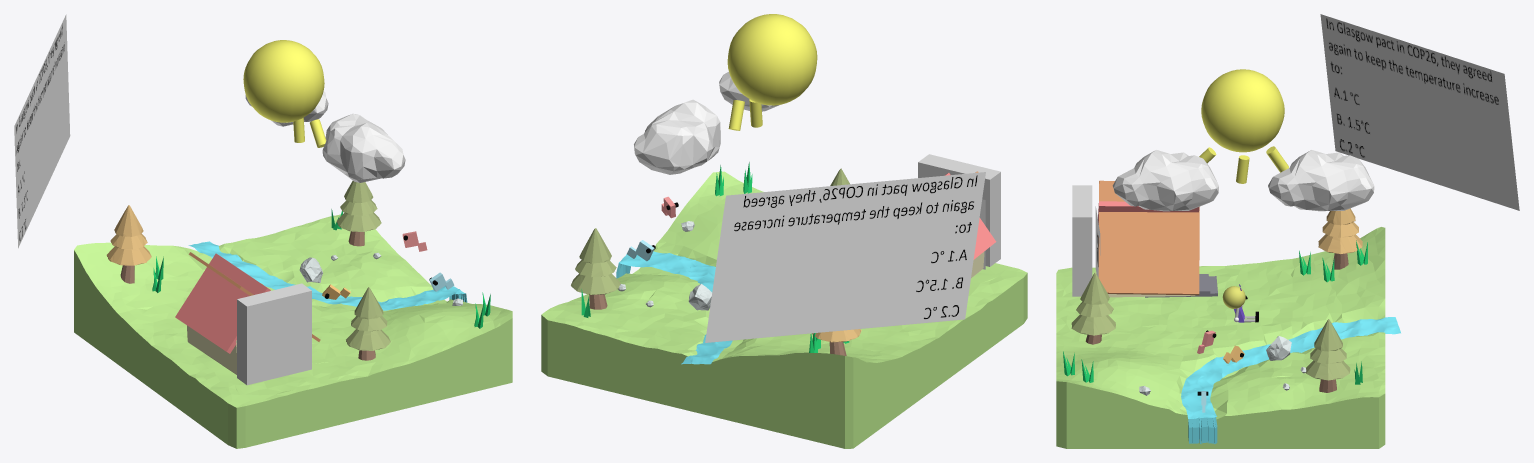
The model's file is sunnyQ5.glb.
3 views of the same model, side by side, from view 1: azimuth 30°, elevation 25°; view 2: azimuth 150°, elevation 25°; view 3: azimuth 270°, elevation 25° (orthographic). The views are drawn at different scales.
Visible parts, largest first — view 1: terrain, pPlane2, Cube, pSphere1, house:pCube6, pPlatonic1, water, house:pCube4, pCylinder1, trees:pCylinder8, trees:pCylinder1, pCylinder4 (+1 smaller); view 2: terrain, pPlane2, pSphere1, clouds:pPlatonic1, Cube, water, trees:pCylinder1, trees:pCylinder4, pPlatonic1, trees:pCylinder3, stone:pPlatonic2, house:pCube6; view 3: terrain, pPlane2, house:pCube5, pSphere1, clouds:pPlatonic1, pPlatonic1, water, Cube, pCylinder1, trees:pCylinder8, trees:pCylinder1, trees:pCylinder4 (+4 smaller).
Part boxes in pixels (x1=…): terrain: x1=74, y1=214, x2=512, y2=448; pPlane2: x1=14, y1=14, x2=70, y2=248; Cube: x1=237, y1=283, x2=311, y2=385; pSphere1: x1=243, y1=40, x2=324, y2=122; house:pCube6: x1=175, y1=253, x2=270, y2=353; pPlatonic1: x1=322, y1=113, x2=405, y2=182; water: x1=188, y1=241, x2=467, y2=310; house:pCube4: x1=187, y1=325, x2=236, y2=374; pCylinder1: x1=346, y1=329, x2=390, y2=350; trees:pCylinder8: x1=106, y1=246, x2=151, y2=265; trees:pCylinder1: x1=336, y1=212, x2=381, y2=231; pCylinder4: x1=354, y1=287, x2=383, y2=319; terrain: x1=541, y1=171, x2=1027, y2=448; pPlane2: x1=705, y1=172, x2=985, y2=342; pSphere1: x1=727, y1=14, x2=817, y2=105; clouds:pPlatonic1: x1=634, y1=99, x2=720, y2=174; Cube: x1=918, y1=154, x2=1000, y2=266; water: x1=616, y1=251, x2=732, y2=364; trees:pCylinder1: x1=571, y1=273, x2=620, y2=294; trees:pCylinder4: x1=579, y1=228, x2=611, y2=263; pPlatonic1: x1=719, y1=71, x2=779, y2=111; trees:pCylinder3: x1=575, y1=260, x2=616, y2=277; stone:pPlatonic2: x1=688, y1=284, x2=711, y2=310; house:pCube6: x1=945, y1=173, x2=996, y2=259; terrain: x1=1056, y1=227, x2=1385, y2=448; pPlane2: x1=1320, y1=14, x2=1519, y2=210; house:pCube5: x1=1098, y1=180, x2=1199, y2=295; pSphere1: x1=1201, y1=69, x2=1284, y2=152; clouds:pPlatonic1: x1=1268, y1=150, x2=1374, y2=211; pPlatonic1: x1=1112, y1=150, x2=1218, y2=211; water: x1=1181, y1=317, x2=1400, y2=444; Cube: x1=1072, y1=185, x2=1092, y2=296; pCylinder1: x1=1071, y1=314, x2=1115, y2=335; trees:pCylinder8: x1=1318, y1=234, x2=1362, y2=254; trees:pCylinder1: x1=1306, y1=360, x2=1350, y2=380; trees:pCylinder4: x1=1314, y1=319, x2=1342, y2=351.
Size of the model in its own units: 0.4613 by 0.3533 by 0.4738.
Materials: 27 (2 with a texture image).
